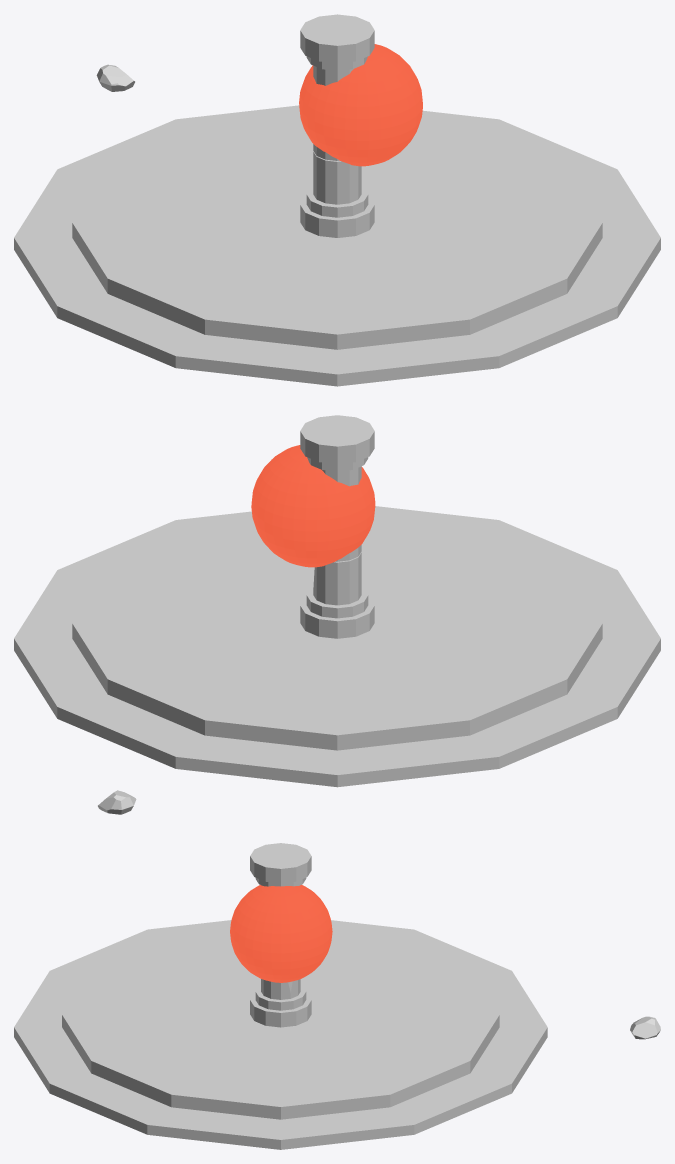
The model's file is columns.glb.
3 renders of one model, top to bottom at view 1: azimuth 30°, elevation 25°; view 2: azimuth 150°, elevation 25°; view 3: azimuth 270°, elevation 25°, orthographic. The views are drawn at different scales.
Visible parts, largest first — view 1: Base, Sphere, Pillar, Rock; view 2: Base, Sphere, Pillar, Rock; view 3: Base, Sphere, Pillar, Rock.
Part boxes in pixels (box(x1,y1,x2,y2)): Base: box(14, 105, 660, 386); Sphere: box(299, 44, 422, 166); Pillar: box(300, 14, 374, 237); Rock: box(96, 64, 134, 91); Base: box(14, 506, 660, 787); Sphere: box(251, 445, 375, 567); Pillar: box(300, 415, 374, 638); Rock: box(98, 790, 136, 814); Base: box(14, 920, 547, 1149); Sphere: box(230, 885, 332, 982); Pillar: box(250, 843, 311, 1027); Rock: box(630, 1016, 660, 1039).
Size of what is drawn, in the model's own units: 27.13 by 10.16 by 32.89.
